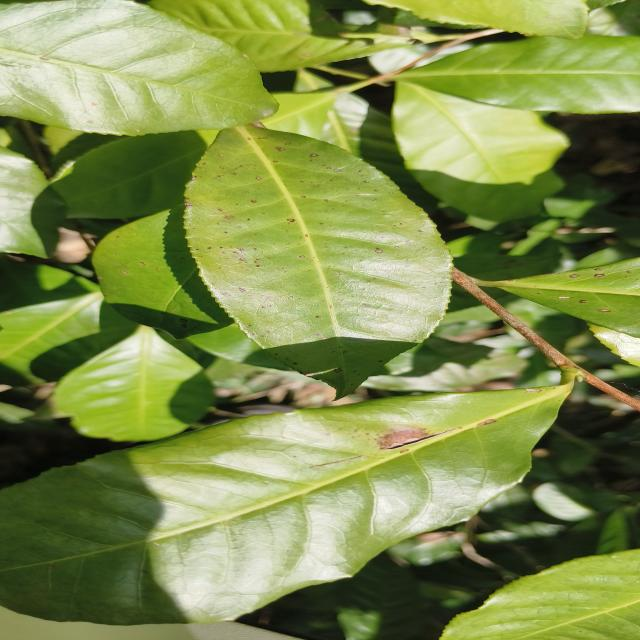Leaf: (0, 372, 572, 625), (184, 125, 451, 397), (0, 0, 277, 136), (392, 81, 568, 222), (396, 36, 640, 114), (93, 209, 234, 338), (55, 326, 211, 441), (441, 550, 640, 640), (149, 0, 382, 72), (53, 131, 217, 219), (476, 258, 640, 338), (0, 293, 103, 386), (370, 0, 588, 39), (337, 553, 425, 640), (0, 147, 66, 258), (264, 93, 368, 155)
